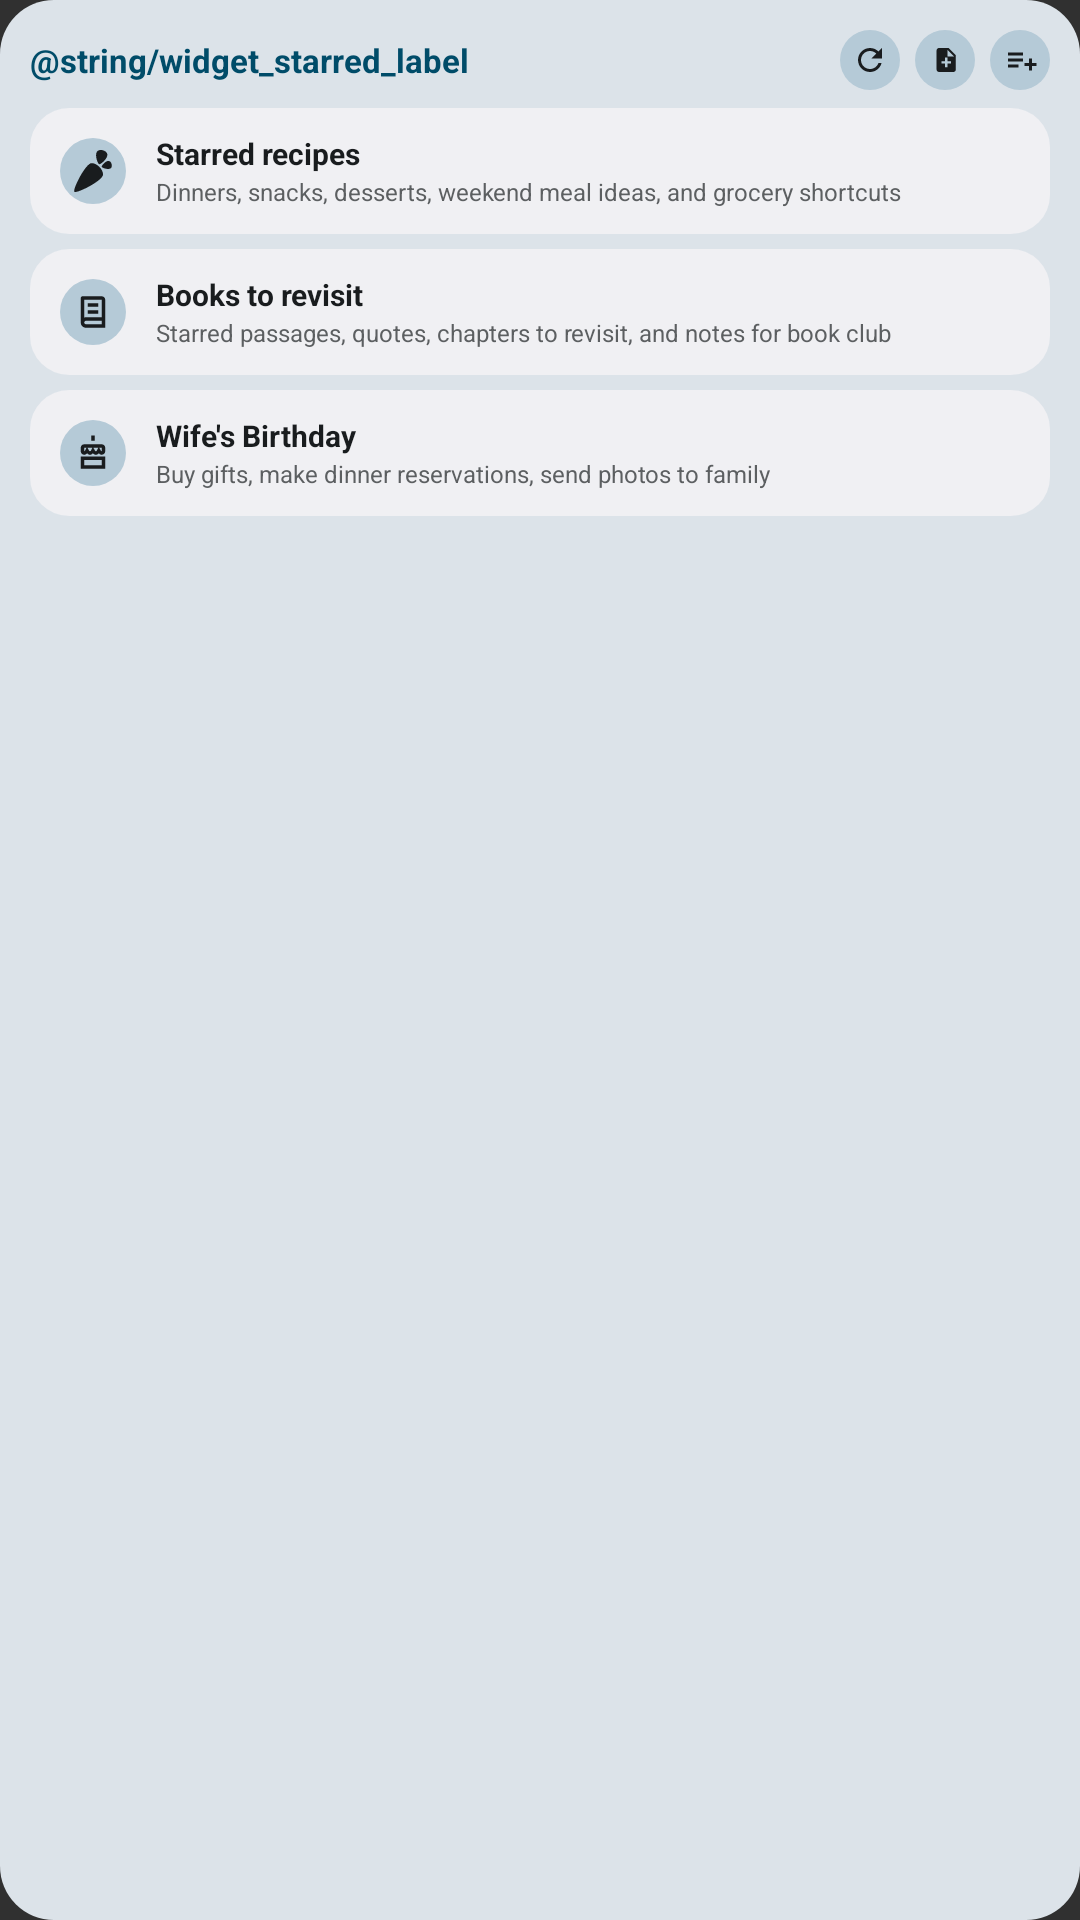

Icons on this 1080 x 1920 Android screen, each with the point to tap as (x=x, y=y):
Create new list: (x=1020, y=60)
Create new note: (x=945, y=60)
Refresh widget: (x=870, y=60)
widget book: (x=93, y=312)
widget cake: (x=93, y=453)
